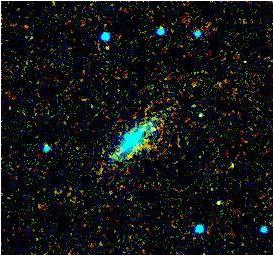star: (184, 99, 214, 129)
